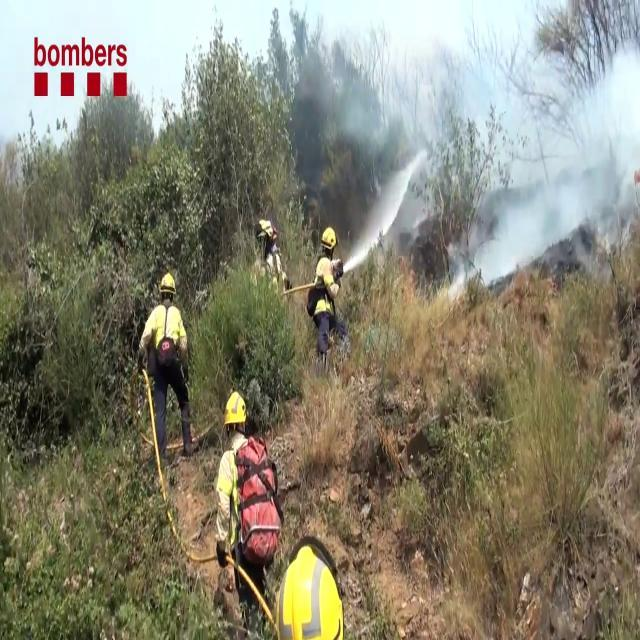Smoke: (296, 0, 640, 296)
